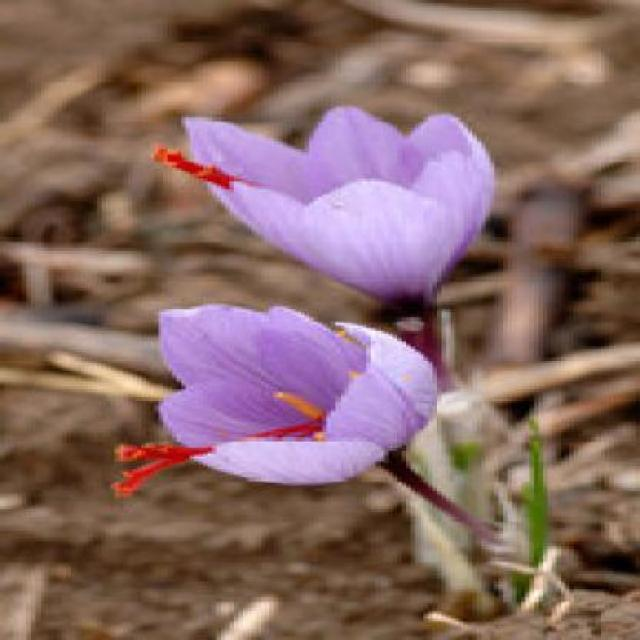Flower: (165, 100, 512, 311), (144, 298, 464, 496)
stigma: (108, 422, 328, 504), (150, 147, 240, 185), (114, 442, 218, 462)
